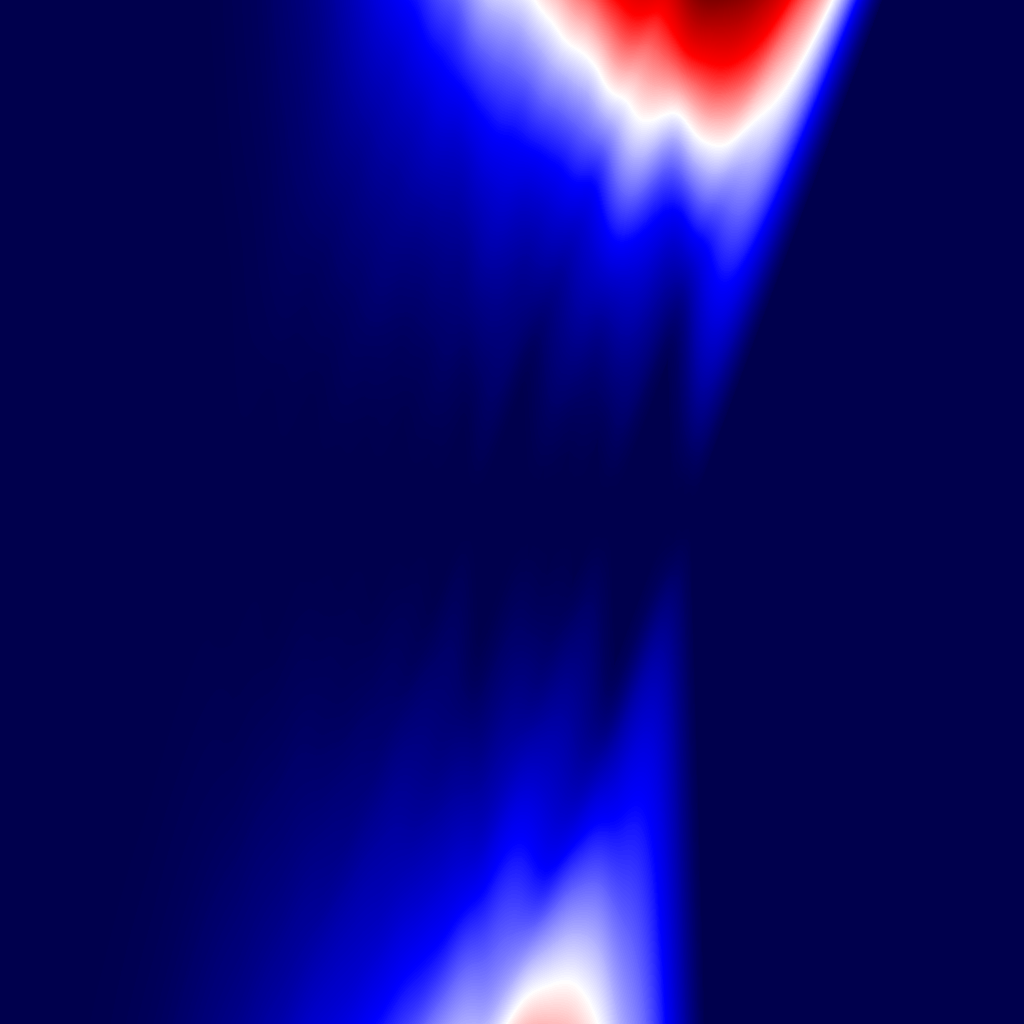diamond: (139, 286, 230, 738), (614, 358, 676, 666), (479, 383, 531, 641), (273, 403, 316, 621), (231, 407, 273, 617), (372, 418, 410, 606), (434, 426, 469, 598), (574, 438, 603, 586), (342, 440, 371, 584), (317, 450, 342, 574), (410, 451, 434, 573), (550, 451, 574, 573), (531, 467, 549, 557), (676, 483, 688, 541), (604, 488, 613, 536), (470, 491, 478, 533), (689, 500, 693, 524)
